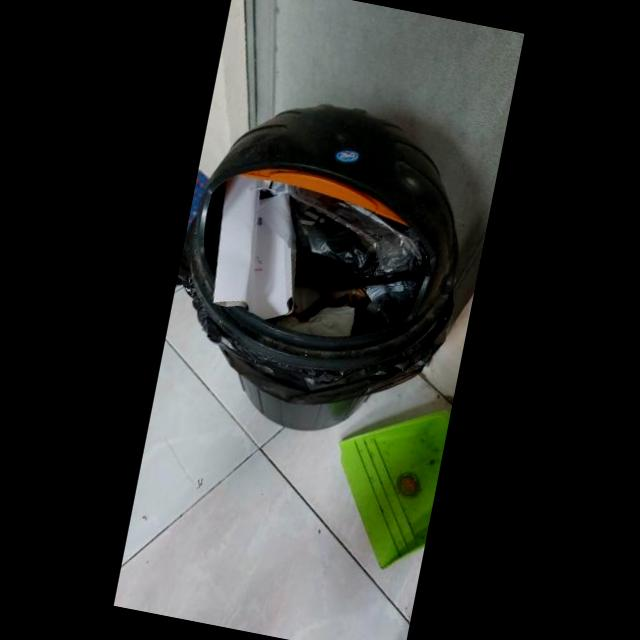giay: (212, 176, 296, 321), (275, 307, 355, 338)
tui_ni_long: (270, 182, 429, 286)
